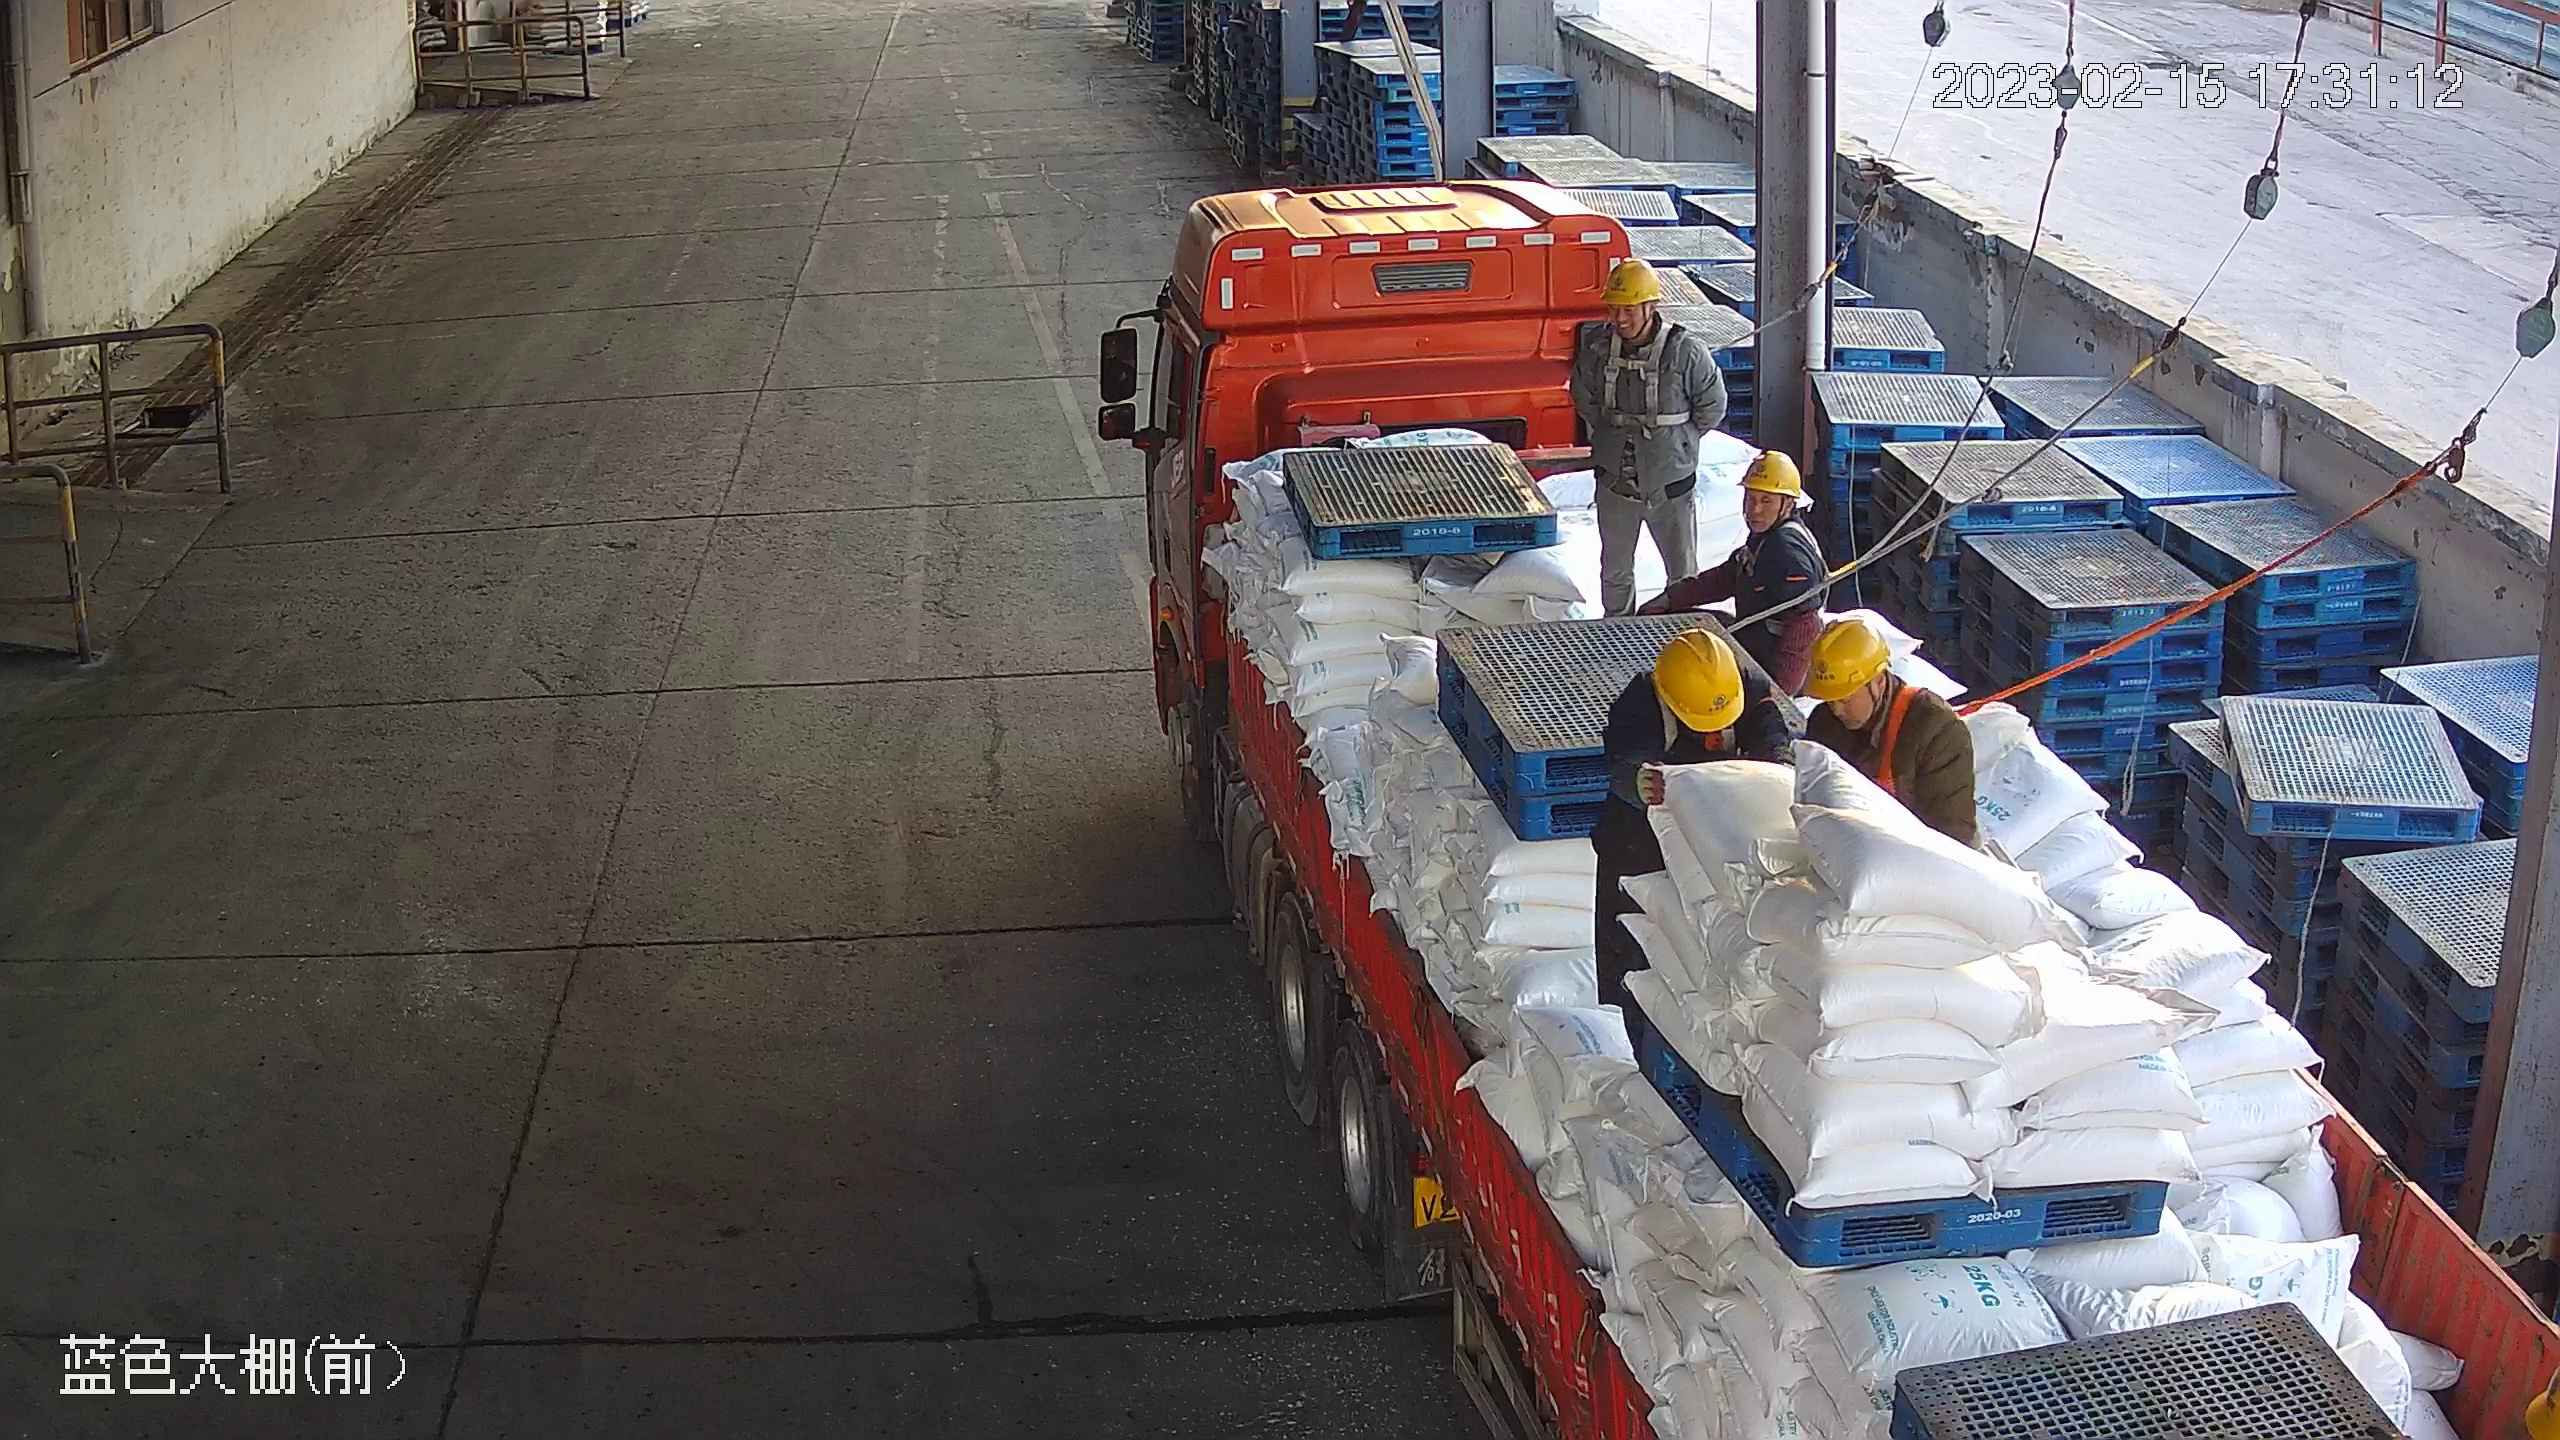belt: (1822, 679, 1996, 804), (1580, 316, 1751, 430), (1754, 516, 1866, 609), (1639, 692, 1748, 764)
head: (1799, 616, 1977, 753), (1607, 628, 1781, 723), (1579, 257, 1716, 365), (1734, 447, 1829, 574)
helmet: (1654, 628, 1747, 735), (1800, 617, 1893, 701), (1736, 448, 1803, 499), (1601, 256, 1664, 306)
people: (1567, 255, 1730, 619), (1636, 450, 1829, 705)
truck: (1141, 173, 2560, 1440)
